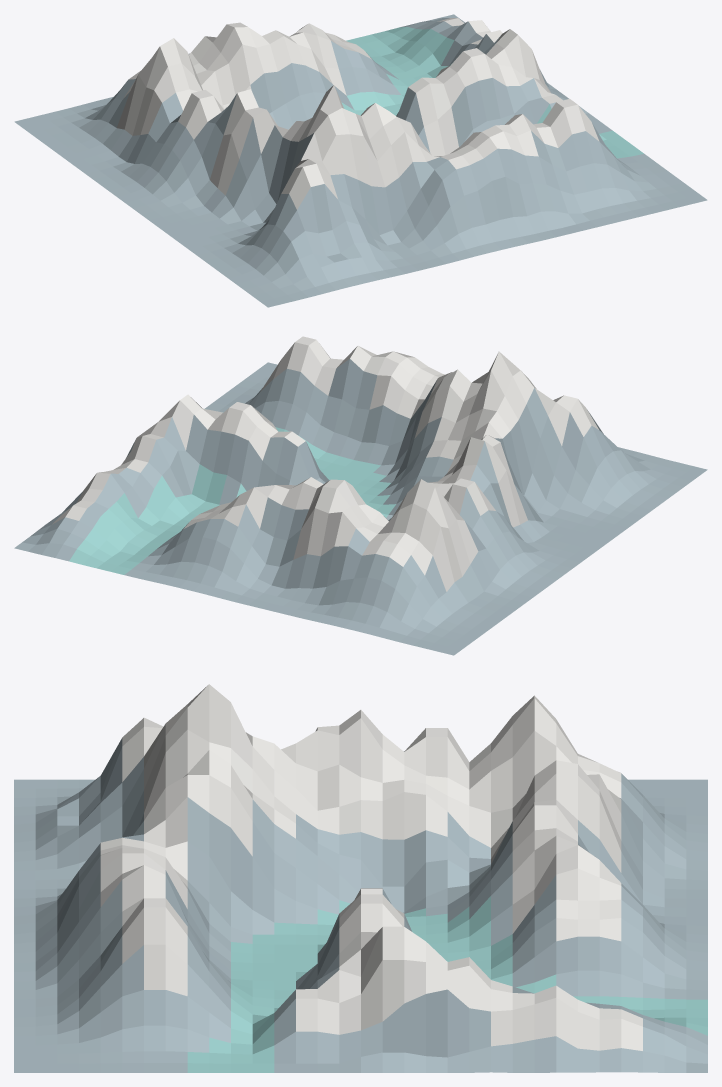
Rendered from Environment Snow Mountain region001.fbx.
3 views of the same model, one above another, from view 1: azimuth 30°, elevation 25°; view 2: azimuth 150°, elevation 25°; view 3: azimuth 270°, elevation 25° (orthographic). The views are drawn at different scales.
Visible parts, largest first — view 1: Plane; view 2: Plane; view 3: Plane.
Boxes of the visible parts, bbox=[...] form: Plane: bbox=[14, 14, 707, 307]; Plane: bbox=[14, 336, 707, 655]; Plane: bbox=[14, 684, 707, 1072].
Size of the model in its own units: 1624 by 519 by 1624.
